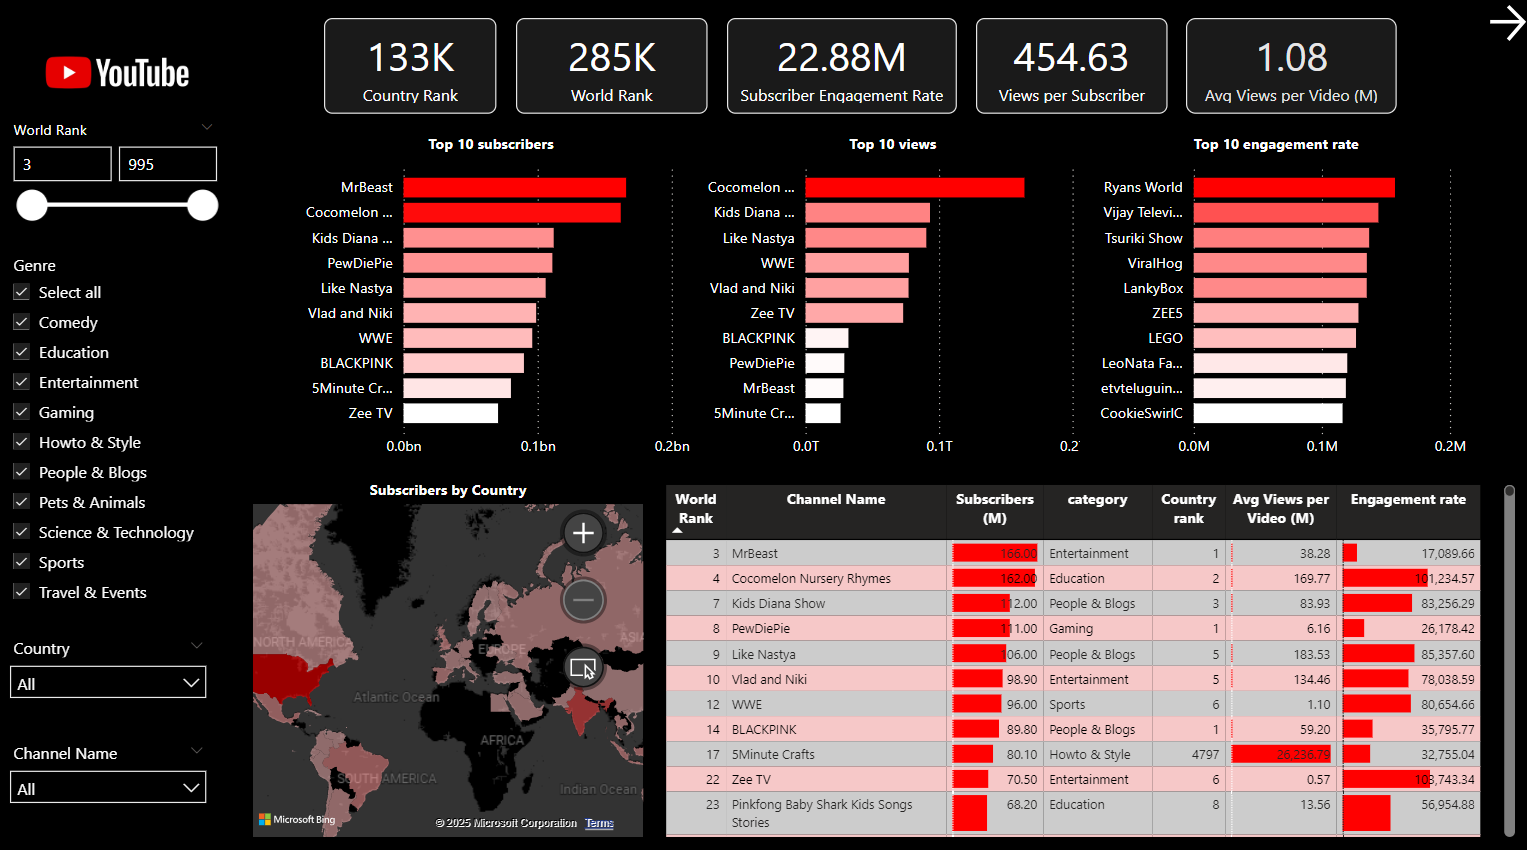

What the dashboard file says about the page in this screenshot:
{"tool":"powerbi","page":{"name":"Page 1","canvas":[1280,720],"ordinal":0},"visuals":[{"type":"filledMap","title":"Subscribers by Country","fields":{"Category":["influencers virtual_table.country"]},"box":[208,400.8,336,304],"z":0},{"type":"tableEx","fields":{"Values":["influencers virtual_table.overall_rank","influencers virtual_table.channel_name","influencers virtual_table.Total Subscribers (M)","influencers virtual_table.category","influencers virtual_table.country_rank","influencers virtual_table.Avg Views per Video (M)","influencers virtual_table.engagement_rate"]},"box":[552,400.8,720,304],"z":1000},{"type":"slicer","fields":{"Values":["influencers virtual_table.overall_rank"]},"box":[0,95.3,192,104],"z":2000},{"type":"slicer","fields":{"Values":["influencers virtual_table.category"]},"box":[0,208,176,304],"z":3000},{"type":"slicer","fields":{"Values":["influencers virtual_table.country"]},"box":[0,528,184,80],"z":4000},{"type":"slicer","fields":{"Values":["influencers virtual_table.channel_name"]},"box":[0,616,184,80],"z":5000},{"type":"clusteredBarChart","title":"Top 10  views","fields":{"Category":["influencers virtual_table.channel_name"],"Y":["influencers virtual_table.total_views"]},"box":[575.8,112,344,280],"z":6000},{"type":"clusteredBarChart","title":"Top 10 engagement rate","fields":{"Category":["influencers virtual_table.channel_name"],"Y":["influencers virtual_table.engagement_rate"]},"box":[903.8,112,328,280],"z":7000},{"type":"barChart","title":"Top 10 subscribers","fields":{"Category":["influencers virtual_table.channel_name"],"Y":["influencers virtual_table.subscribers"]},"box":[239.8,112,344,280],"z":8000},{"type":"card","fields":{"Values":["influencers virtual_table.engagement_rate"]},"box":[608.7,16,192,80],"z":9000},{"type":"card","fields":{"Values":["influencers virtual_table.Views per Subscriber"]},"box":[816.7,16,160,80],"z":10000},{"type":"card","fields":{"Values":["influencers virtual_table.Avg Views per Video (M)"]},"box":[992.7,16,176,80],"z":11000},{"type":"card","fields":{"Values":["influencers virtual_table.overall_rank"]},"box":[432.7,16,160,80],"z":12000},{"type":"card","fields":{"Values":["influencers virtual_table.country_rank"]},"box":[272.7,16,144,80],"z":13000},{"type":"image","box":[8,32,192,56],"z":14000},{"type":"actionButton","box":[1240,0,40,40],"z":15000}]}

Visuals, with their boxes on the page's 1280x720 design canvas (x1, y1, x2, y2). These are canvas units, not pixel positions in the 1527x850 screenshot, which may show the page scaled, cropped or inside an application window:
"Subscribers by Country" filledMap: region(208, 401, 544, 705)
tableEx - influencers virtual_table.overall_rank x influencers virtual_table.channel_name: region(552, 401, 1272, 705)
slicer - influencers virtual_table.overall_rank: region(0, 95, 192, 199)
slicer - influencers virtual_table.category: region(0, 208, 176, 512)
slicer - influencers virtual_table.country: region(0, 528, 184, 608)
slicer - influencers virtual_table.channel_name: region(0, 616, 184, 696)
"Top 10  views" clusteredBarChart: region(576, 112, 920, 392)
"Top 10 engagement rate" clusteredBarChart: region(904, 112, 1232, 392)
"Top 10 subscribers" barChart: region(240, 112, 584, 392)
card - influencers virtual_table.engagement_rate: region(609, 16, 801, 96)
card - influencers virtual_table.Views per Subscriber: region(817, 16, 977, 96)
card - influencers virtual_table.Avg Views per Video (M): region(993, 16, 1169, 96)
card - influencers virtual_table.overall_rank: region(433, 16, 593, 96)
card - influencers virtual_table.country_rank: region(273, 16, 417, 96)
image: region(8, 32, 200, 88)
actionButton: region(1240, 0, 1280, 40)
